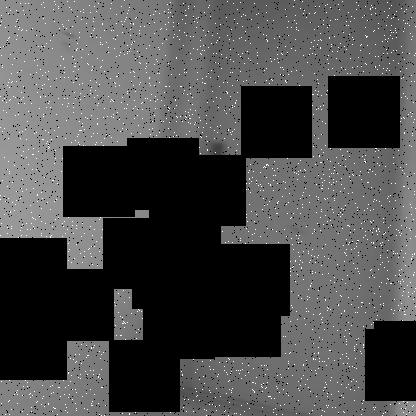Porte: (145, 1, 415, 415)
